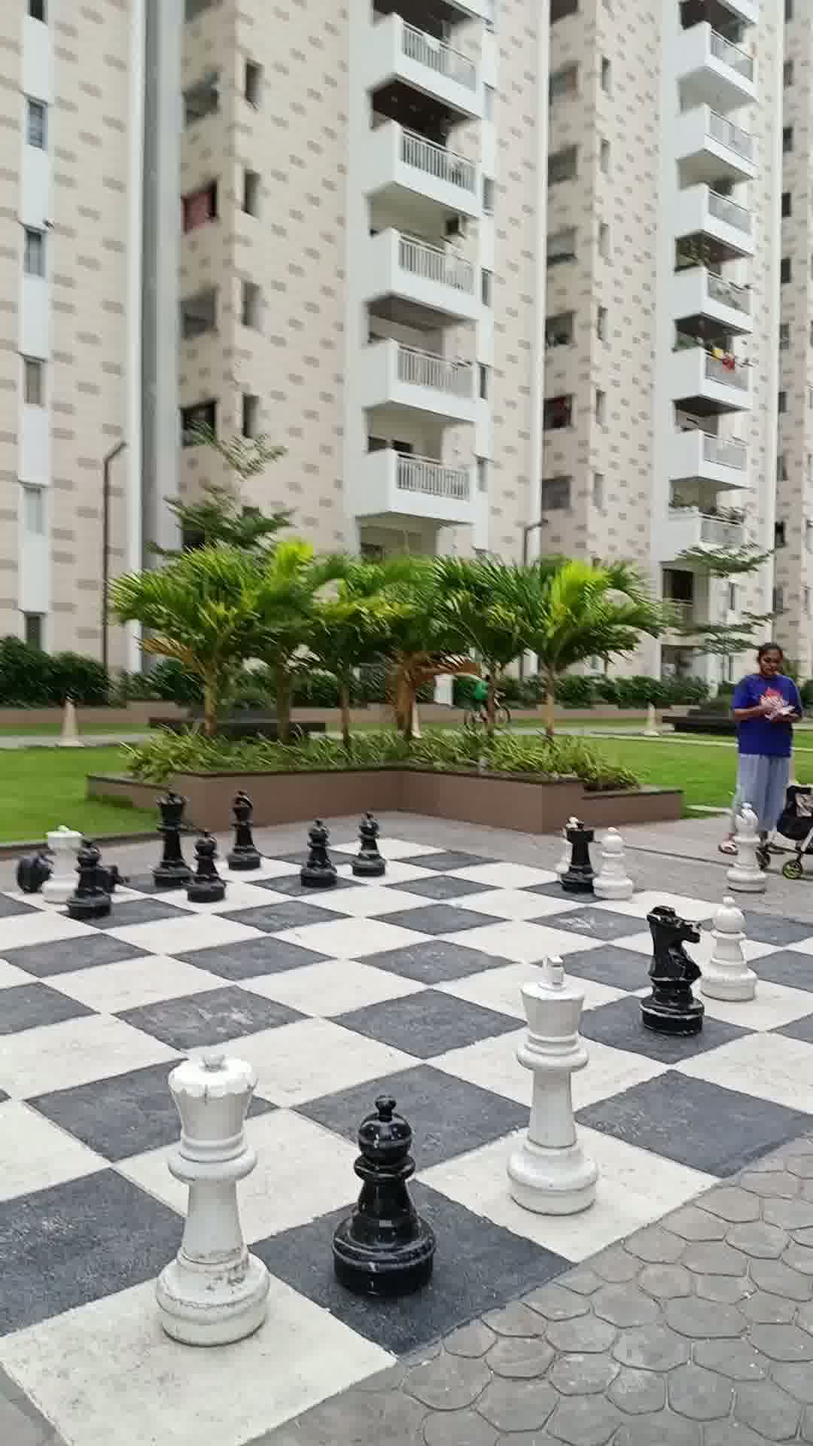person: (717, 606, 813, 871)
tree: (487, 535, 646, 780), (430, 501, 555, 763), (327, 535, 464, 766), (105, 552, 253, 757), (689, 490, 788, 720), (242, 529, 339, 754)
